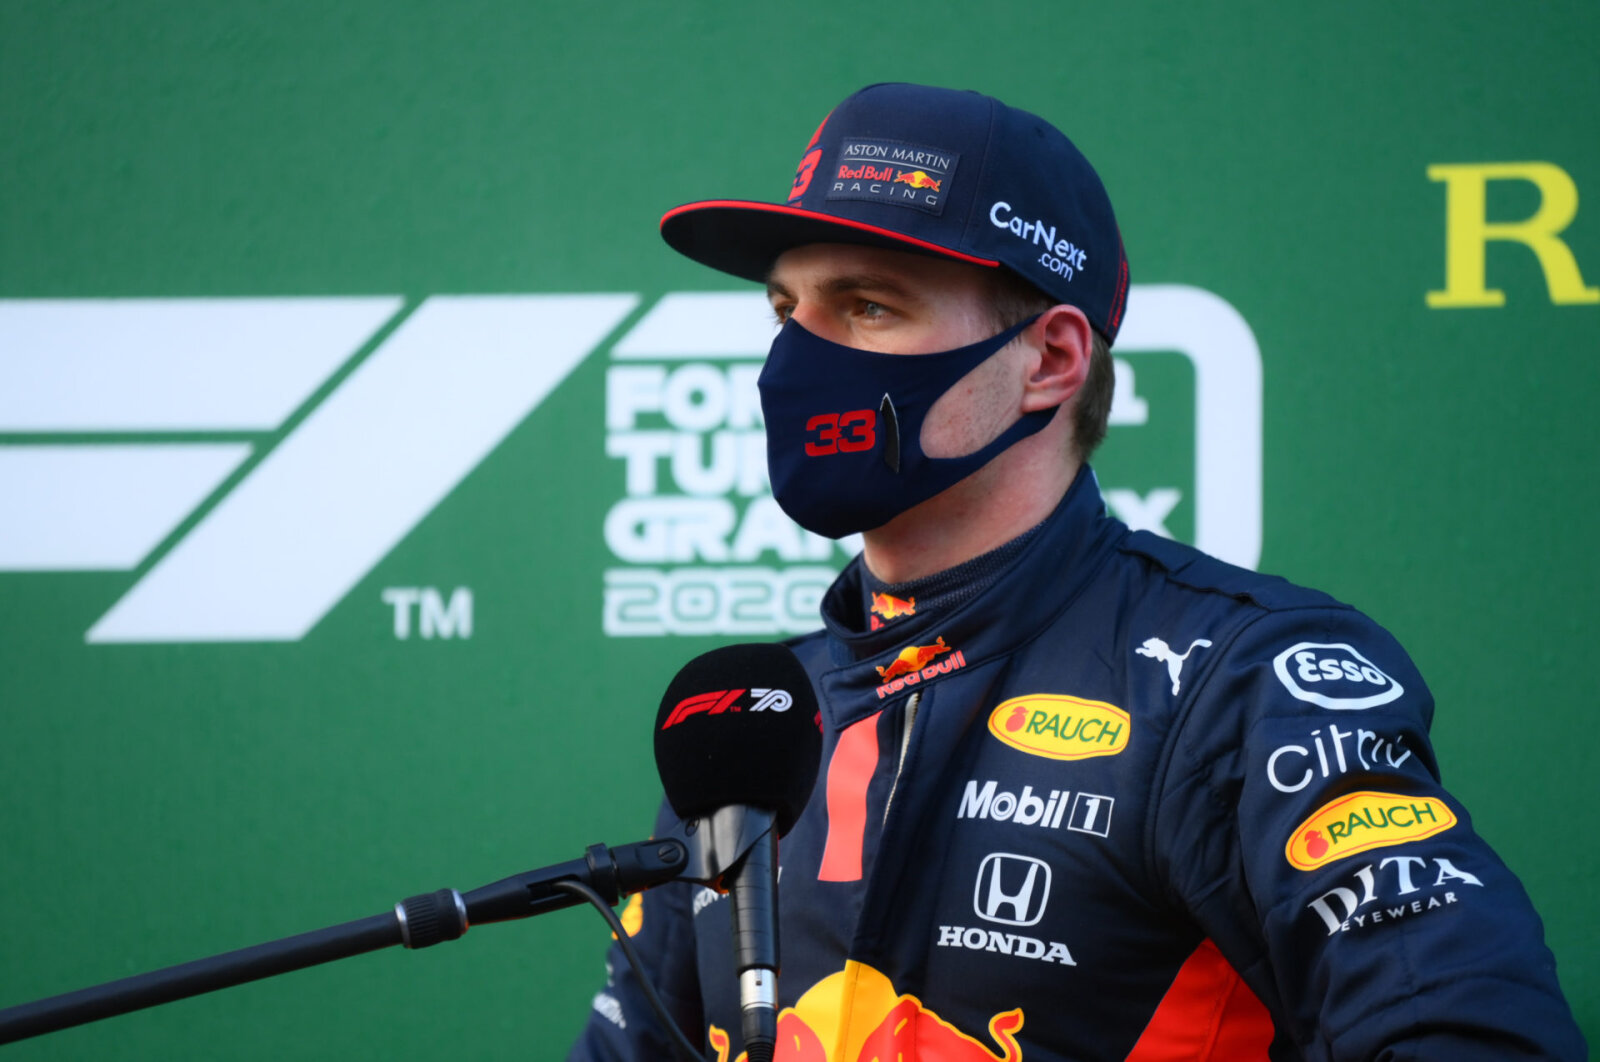with_mask: (766, 282, 993, 491)
